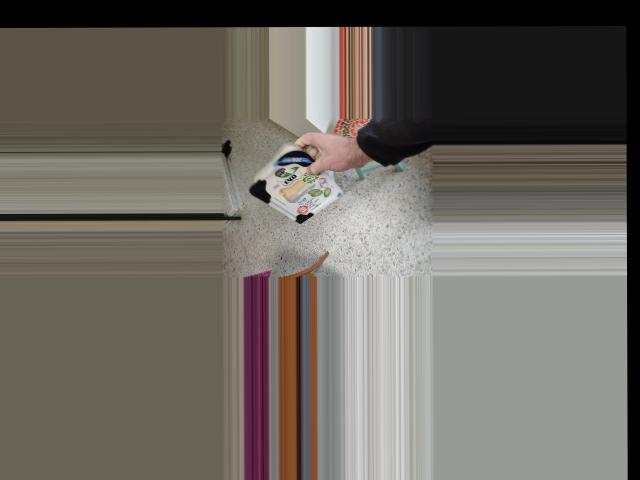cheese: (251, 126, 328, 232)
